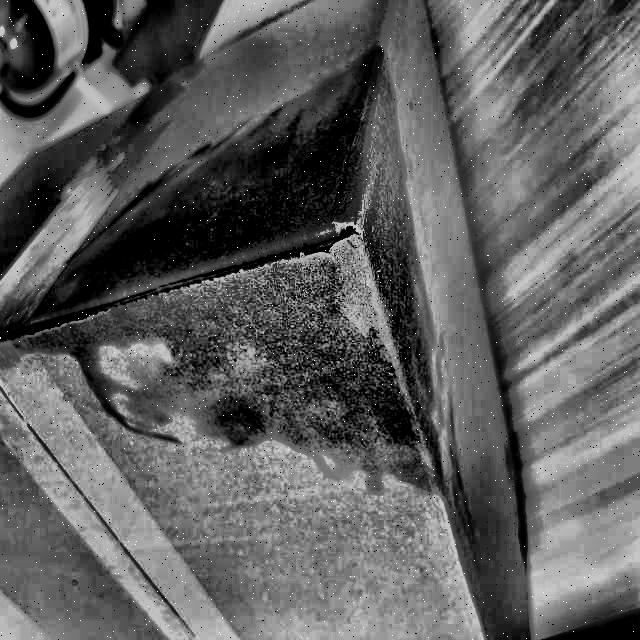box: (0, 12, 549, 640)
wet: (41, 78, 461, 490)
